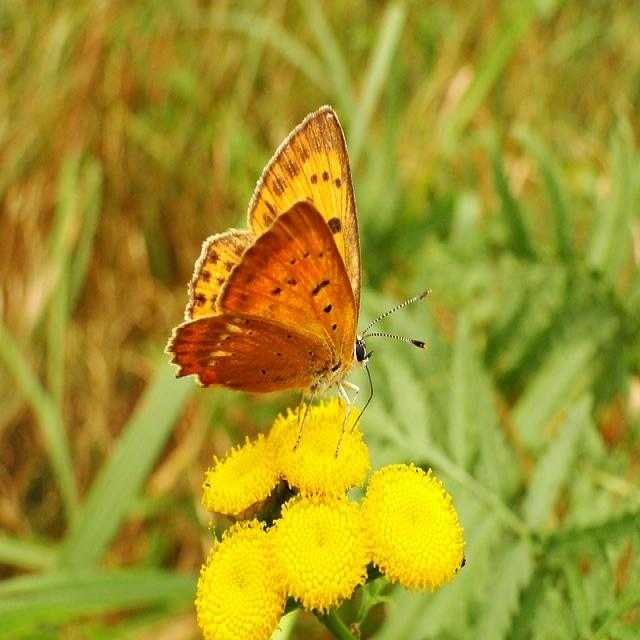butterfly: (165, 108, 364, 399)
